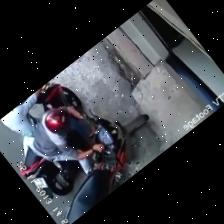person: (29, 107, 103, 175), (0, 85, 45, 156)
